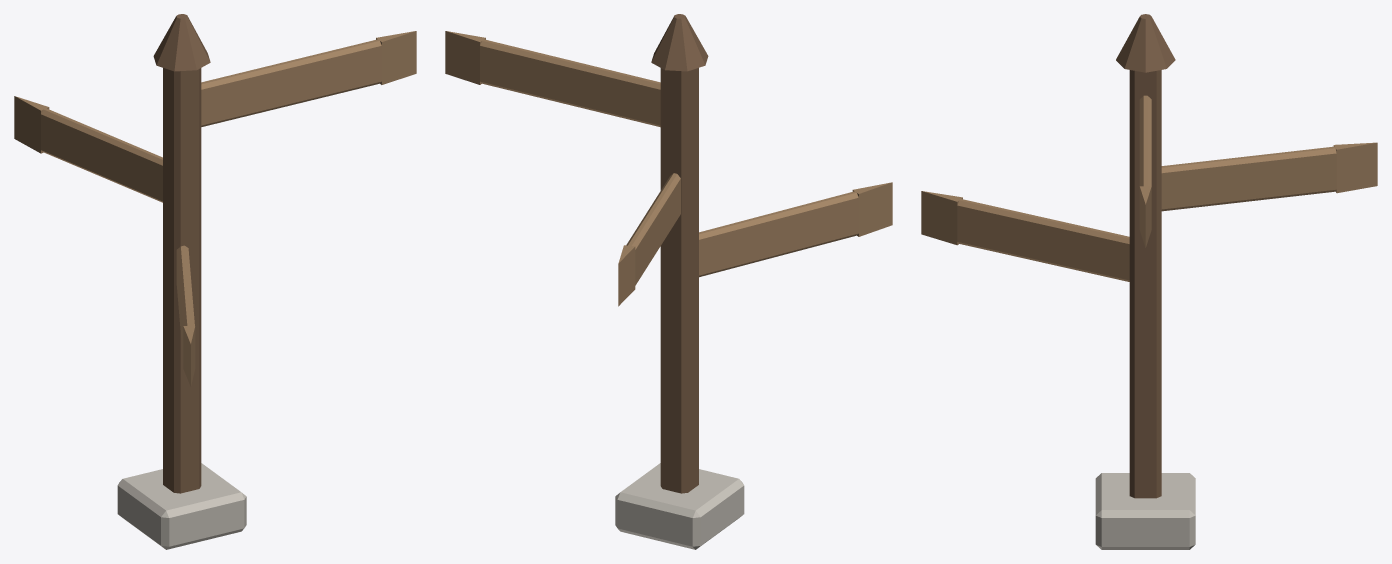
File: signpost.glb
3 renders of one model, left to right at view 1: azimuth 30°, elevation 25°; view 2: azimuth 150°, elevation 25°; view 3: azimuth 270°, elevation 25°, orthographic.
Visible parts, largest first — view 1: signpost; view 2: signpost; view 3: signpost.
Boxes of the visible parts, bbox=[...] form: signpost: bbox=[14, 14, 416, 549]; signpost: bbox=[445, 14, 892, 549]; signpost: bbox=[921, 14, 1377, 549].
Bounding box in the file's own units: 1.97 × 2.84 × 2.28.
